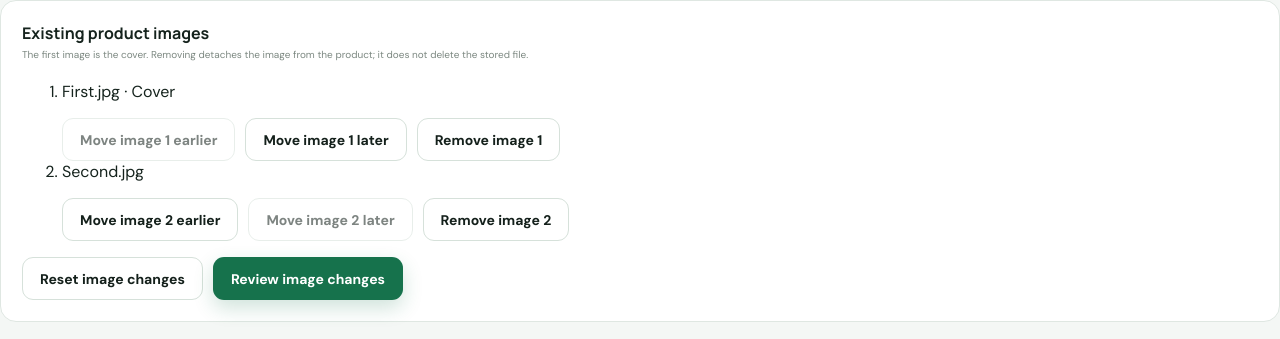
Test: product image controls › preserves at least one image and resets unsaved removal
Click the button "Remove image 2" at point(496, 220), box [423,198,569,241]
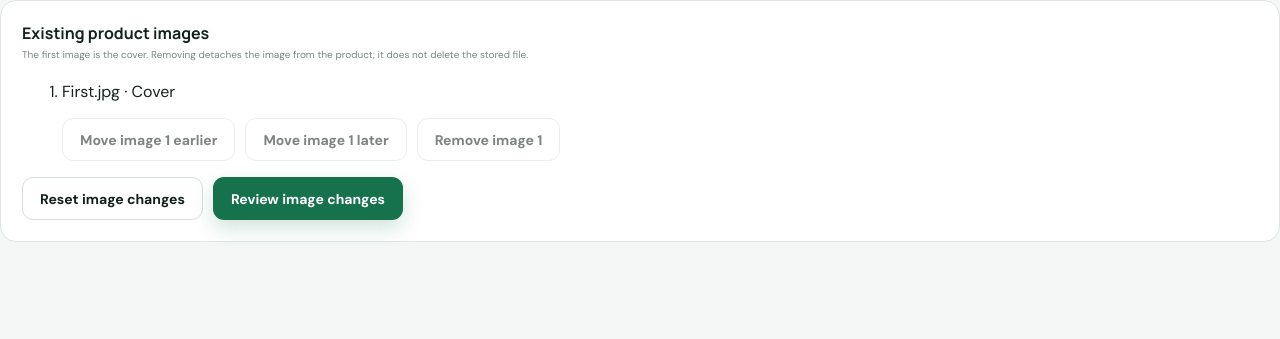
Expected: the button "Remove image 1" is disabled, [417,118,560,161]
Click the button "Reset image changes" at point(112, 198), box [22,177,203,220]
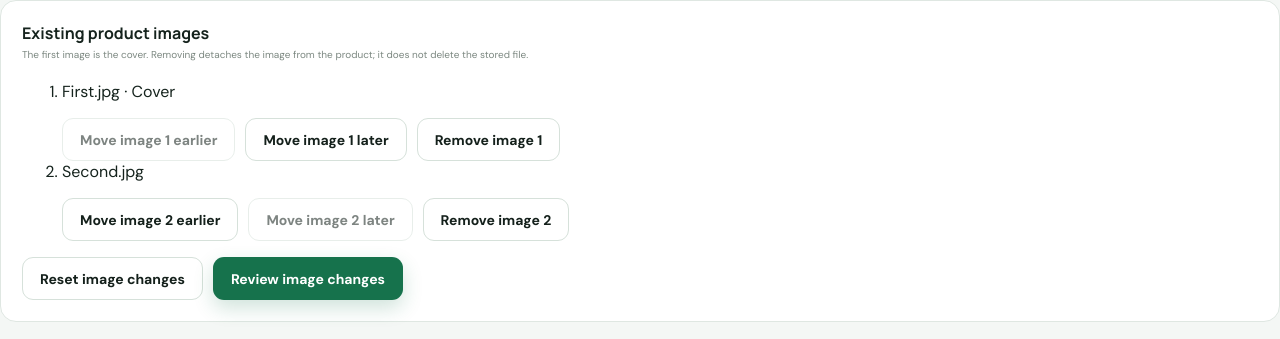
Expected: the button "Remove image 2" is enabled, [423,198,569,241]
